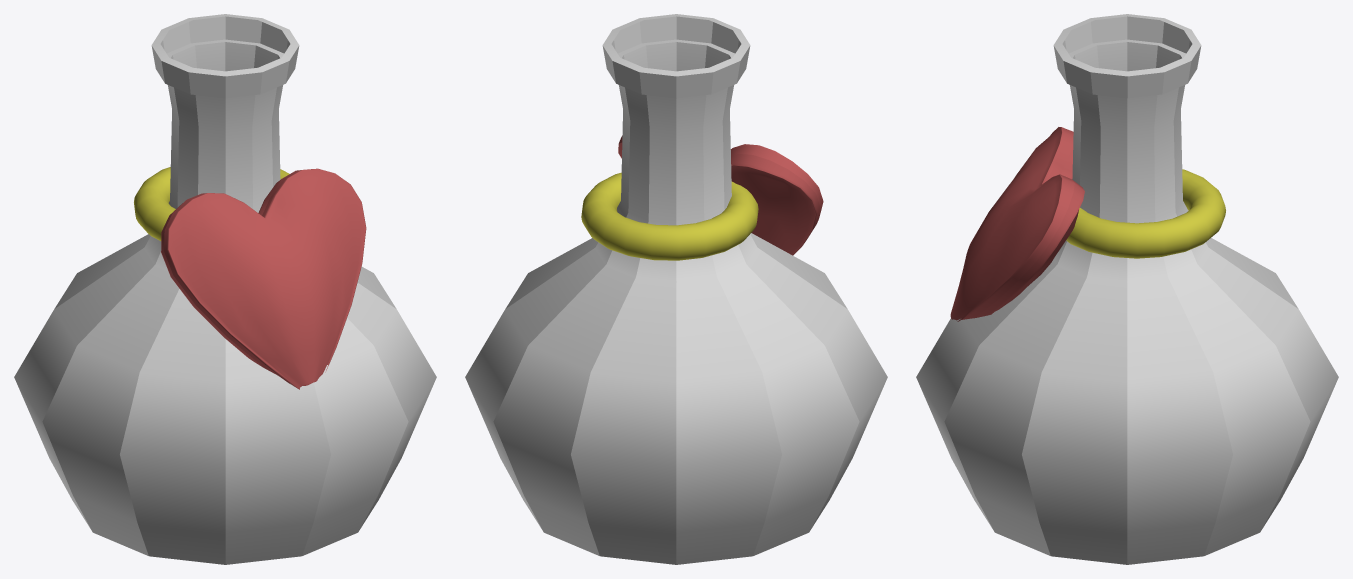
The model's file is true love.fbx.
The picture shows the model from 3 angles, left to right: view 1: azimuth 30°, elevation 25°; view 2: azimuth 150°, elevation 25°; view 3: azimuth 270°, elevation 25°; orthographic projection.
Visible parts, largest first — view 1: red_berry_juice:potion, polySurface1, pTorus1; view 2: red_berry_juice:potion, pTorus1, polySurface1; view 3: red_berry_juice:potion, polySurface1, pTorus1.
Boxes of the visible parts, x1,y1,x2,y2 form: red_berry_juice:potion: [14, 14, 436, 564]; polySurface1: [161, 168, 366, 389]; pTorus1: [134, 167, 289, 240]; red_berry_juice:potion: [465, 14, 887, 564]; pTorus1: [581, 172, 758, 260]; polySurface1: [618, 135, 823, 255]; red_berry_juice:potion: [916, 14, 1338, 564]; polySurface1: [950, 127, 1084, 321]; pTorus1: [1066, 169, 1225, 258].
Size of the model in its own units: 2.37 by 2.82 by 2.37.
